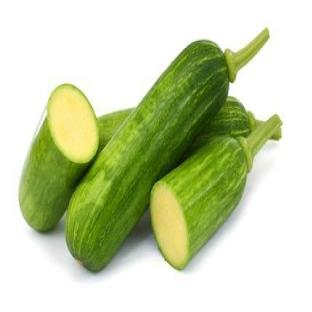Zucchini: (66, 29, 268, 271), (151, 116, 281, 268), (19, 84, 98, 230), (187, 96, 263, 154)
